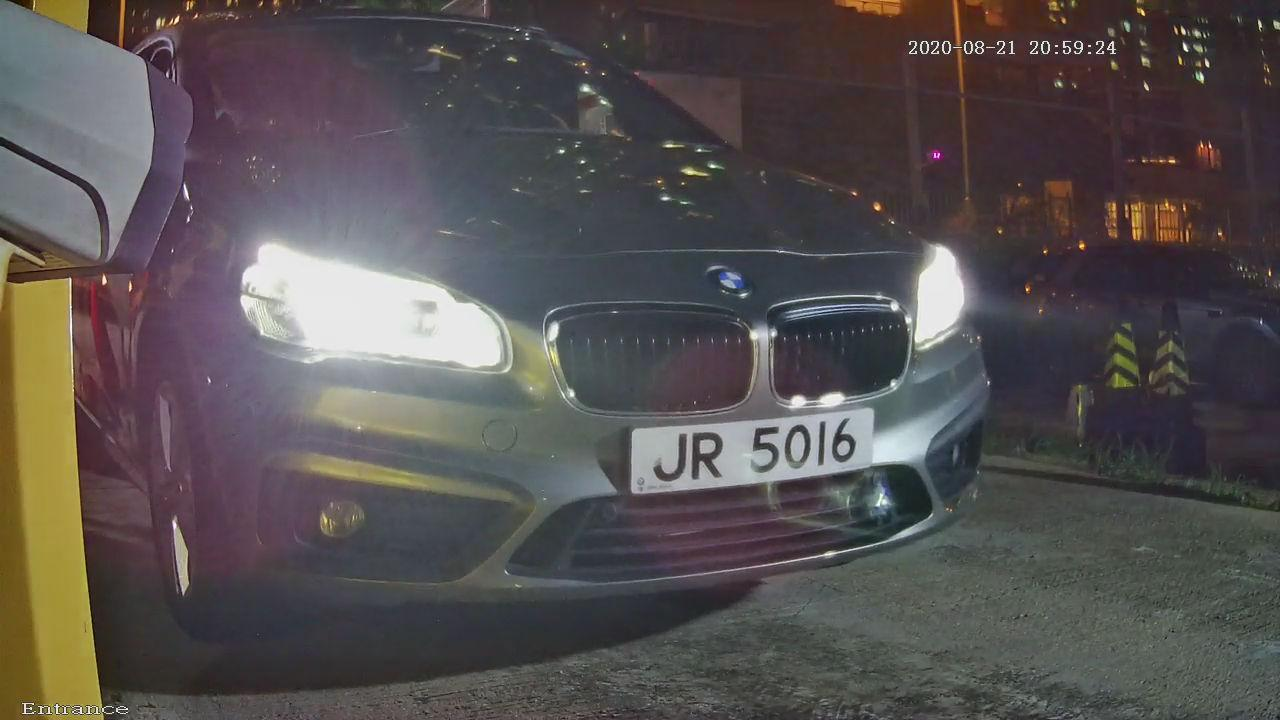Car: (58, 26, 1081, 643)
License Plate: (606, 399, 898, 505)
